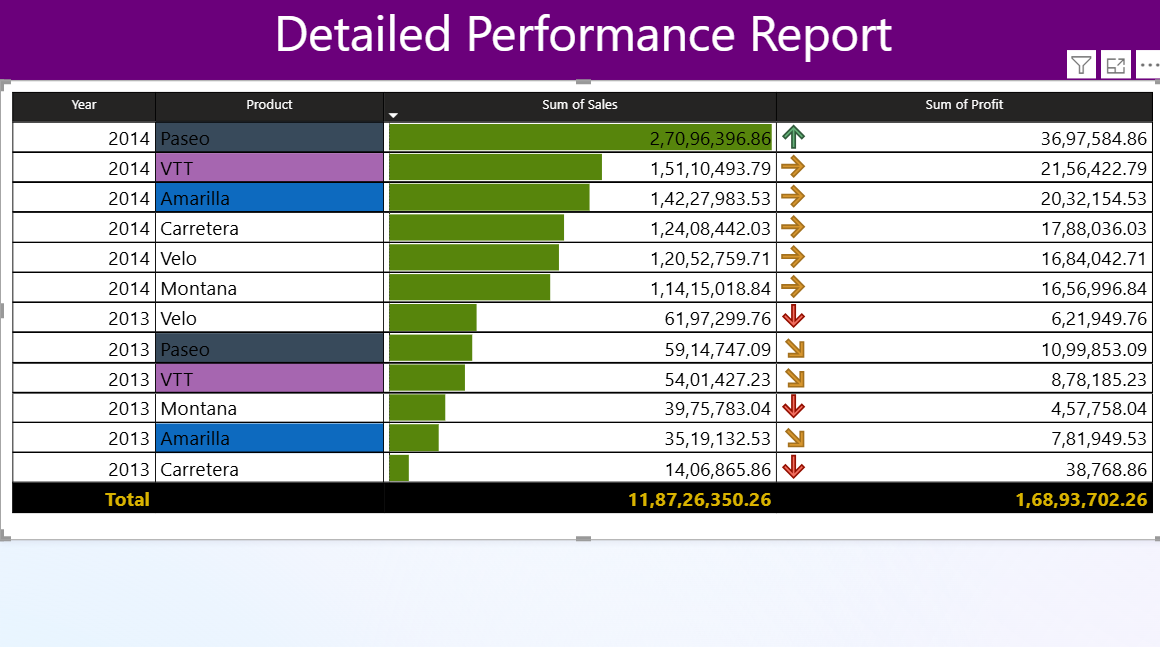

Layout of this report page (visuals, bound fields, positions):
{"tool":"powerbi","page":{"name":"Detailed performance report","canvas":[1280,720],"ordinal":3},"visuals":[{"type":"tableEx","fields":{"Values":["financials.Date.Variation.Date Hierarchy.Year","financials.Product","Sum(financials.Sales)","Sum(financials.Profit)"]},"box":[0,94.7,1280.3,505],"z":0},{"type":"textbox","box":[0,0,1280.3,94.7],"z":2}]}

Visuals, with their boxes in screenshot pixels (x1, y1, x2, y2), scaled from the page's 1280x720 canvas onto the 1160x647 screenshot:
tableEx - financials.Date.Variation.Date Hierarchy.Year x financials.Product: bbox(0, 85, 1159, 539)
textbox: bbox(0, 0, 1159, 85)
